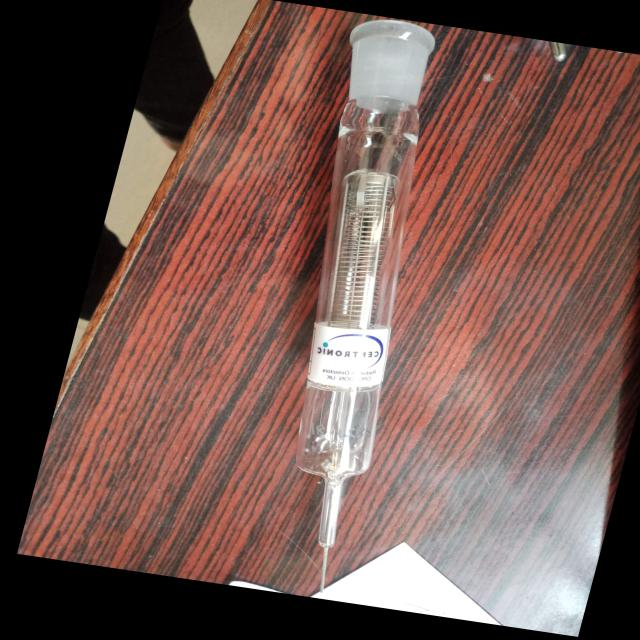Helium Lamp: (197, 11, 492, 601)
